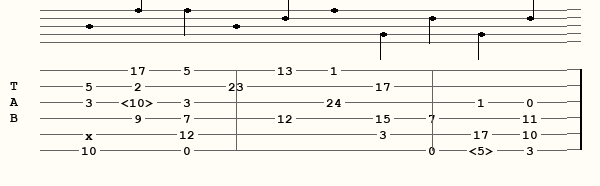0: (183, 144, 195, 156), (428, 144, 440, 156), (526, 96, 538, 108)
1: (330, 64, 342, 76), (477, 96, 489, 108)
10: (81, 144, 101, 156), (522, 128, 542, 140)
11: (522, 112, 542, 124)
12: (179, 128, 199, 140), (277, 112, 297, 124)
13: (277, 64, 297, 76)
15: (375, 112, 395, 124)
17: (130, 64, 150, 76), (375, 80, 395, 92), (473, 128, 493, 140)
2: (134, 80, 146, 92)
23: (228, 80, 248, 92)
24: (326, 96, 346, 108)
3: (85, 96, 97, 108), (183, 96, 195, 108), (379, 128, 391, 140), (526, 144, 538, 156)
5: (85, 80, 97, 92), (183, 64, 195, 76)
7: (183, 112, 195, 124), (428, 112, 440, 124)
9: (134, 112, 146, 124)
harmonic: (121, 96, 158, 108), (469, 144, 498, 156)
x: (85, 129, 97, 139)
